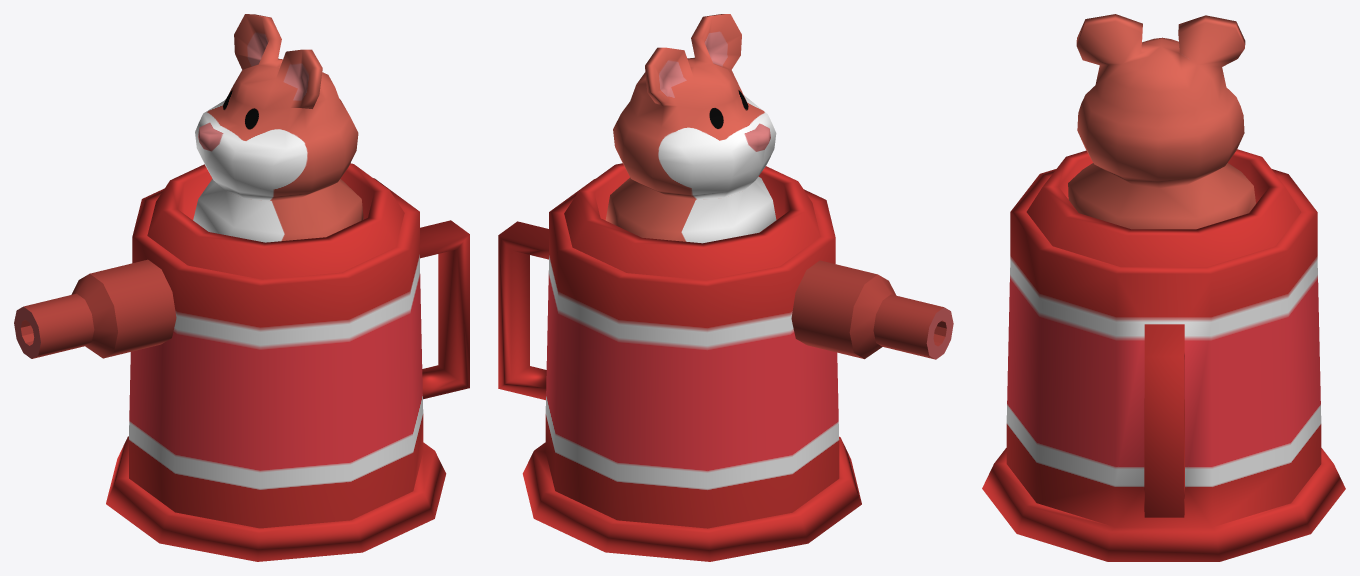
The model's file is RedHamTurret.obj.
3 renders of one model, left to right at view 1: azimuth 30°, elevation 25°; view 2: azimuth 150°, elevation 25°; view 3: azimuth 270°, elevation 25°, orthographic. The views are drawn at different scales.
Visible parts, largest first — view 1: polySurface6, polySurface5, polySurface4; view 2: polySurface6, polySurface5, polySurface4; view 3: polySurface6, polySurface5.
Boxes of the visible parts, x1=… form: polySurface6: x1=106, y1=163, x2=469, y2=561; polySurface5: x1=193, y1=14, x2=363, y2=242; polySurface4: x1=14, y1=259, x2=176, y2=358; polySurface6: x1=498, y1=163, x2=861, y2=561; polySurface5: x1=605, y1=14, x2=776, y2=243; polySurface4: x1=791, y1=260, x2=953, y2=359; polySurface6: x1=982, y1=149, x2=1345, y2=561; polySurface5: x1=1068, y1=14, x2=1255, y2=229.
Bounding box in the file's own units: 3.22 × 3.24 × 2.24.
